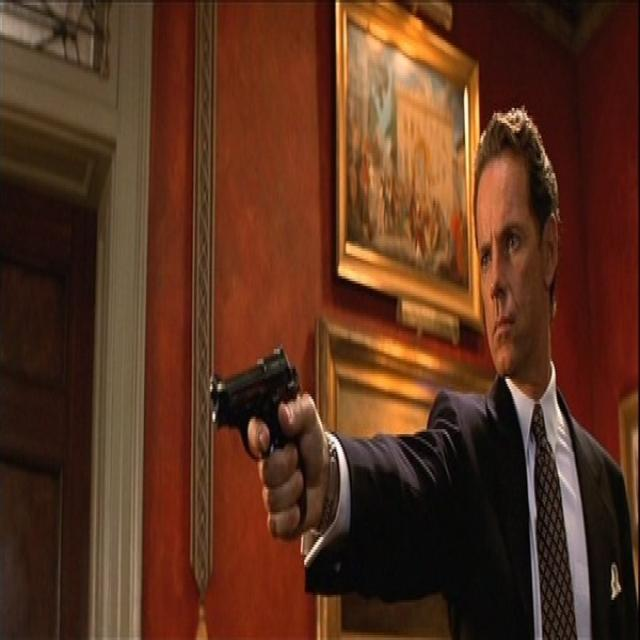weapons: (202, 335, 328, 550)
